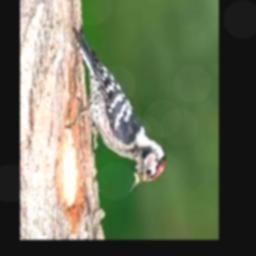Woodpecker: (66, 29, 167, 192)
